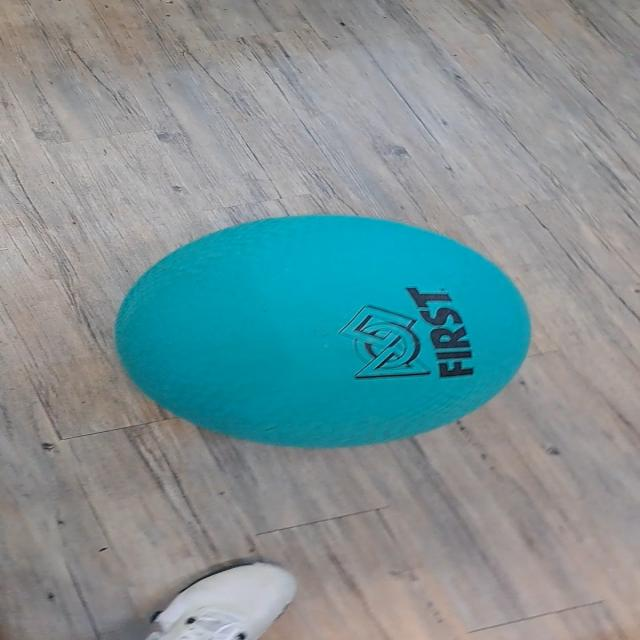ALGAE: (111, 212, 533, 450)
